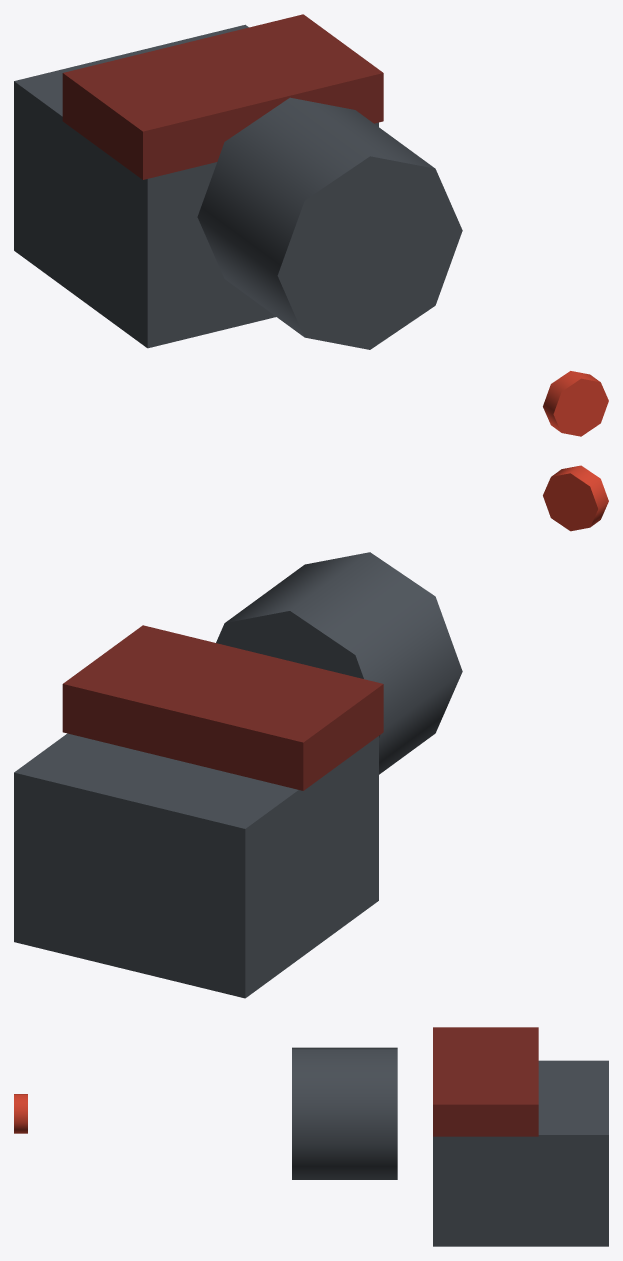
3 renders of one model, top to bottom at view 1: azimuth 30°, elevation 25°; view 2: azimuth 150°, elevation 25°; view 3: azimuth 270°, elevation 25°, orthographic. The views are drawn at different scales.
Parts seen in each view (by area): view 1: garde_weapon_vertibird_gun; view 2: garde_weapon_vertibird_gun; view 3: garde_weapon_vertibird_gun.
Boxes of the visible parts, box(x1,y1,x2,y2) form: garde_weapon_vertibird_gun: box(14, 14, 608, 436); garde_weapon_vertibird_gun: box(14, 465, 608, 998); garde_weapon_vertibird_gun: box(14, 1027, 608, 1246).
Size of the model in its own units: 0.52 by 0.5 by 1.69.
